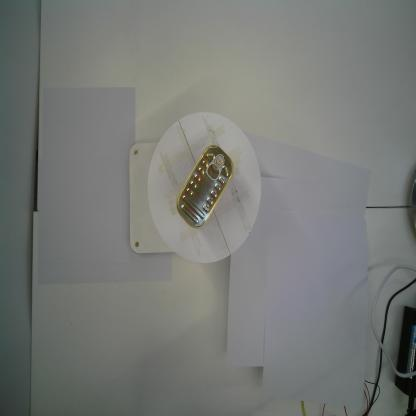Canned Food: (176, 145, 233, 229)
